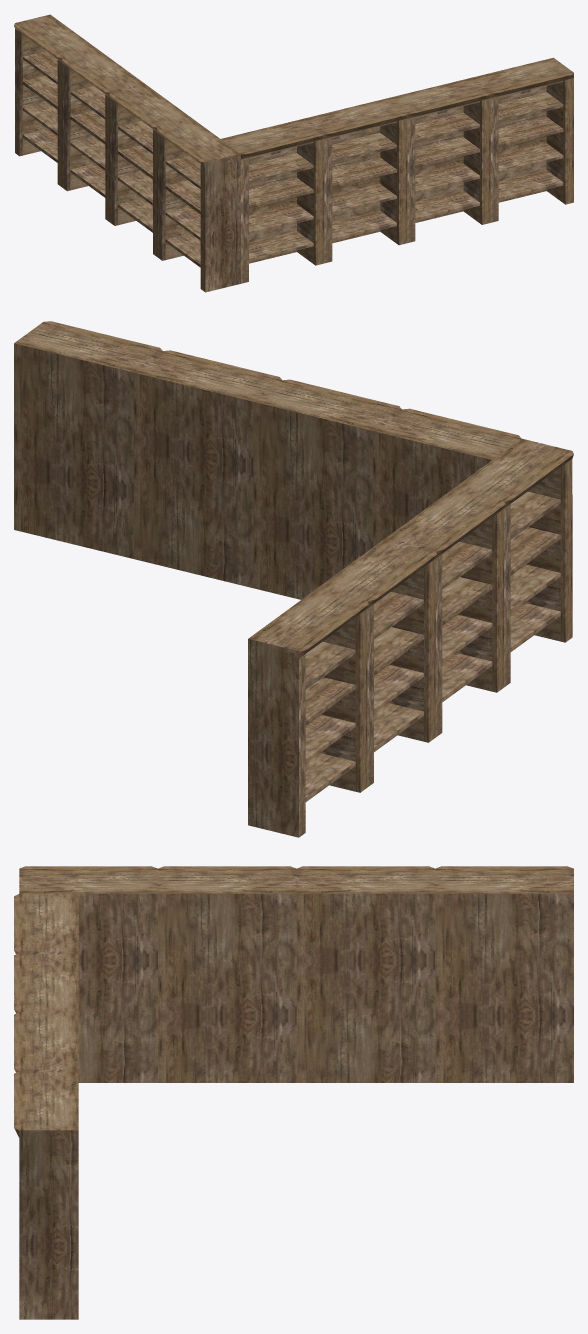
Rendered from d_emc_shouyou_guizi01_qt.FBX.
3 views of the same model, one above another, from view 1: azimuth 30°, elevation 25°; view 2: azimuth 150°, elevation 25°; view 3: azimuth 270°, elevation 25° (orthographic). The views are drawn at different scales.
Visible parts, largest first — view 1: d_emc_shouyou_guizi01_qt; view 2: d_emc_shouyou_guizi01_qt; view 3: d_emc_shouyou_guizi01_qt.
Part boxes in pixels (x1,y1,x2,y2): d_emc_shouyou_guizi01_qt: (14,14,573,292); d_emc_shouyou_guizi01_qt: (14,321,573,837); d_emc_shouyou_guizi01_qt: (14,866,573,1319).
Bounding box in the file's own units: 5.58 × 1.86 × 5.
